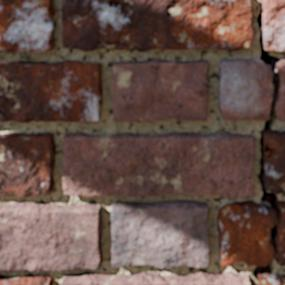brick: (62, 133, 254, 197), (62, 0, 253, 50), (0, 203, 101, 271), (111, 200, 209, 268), (0, 61, 101, 121), (113, 60, 207, 120), (0, 133, 55, 196), (0, 0, 54, 52), (62, 272, 249, 284), (262, 131, 284, 191), (261, 0, 284, 51), (0, 275, 51, 284), (258, 274, 284, 284)
broken_brick: (216, 200, 274, 267), (217, 58, 272, 121), (277, 59, 284, 121), (279, 213, 284, 266), (280, 200, 284, 209)
crack: (252, 2, 284, 282), (96, 40, 142, 51), (0, 170, 11, 180), (0, 186, 4, 193)
